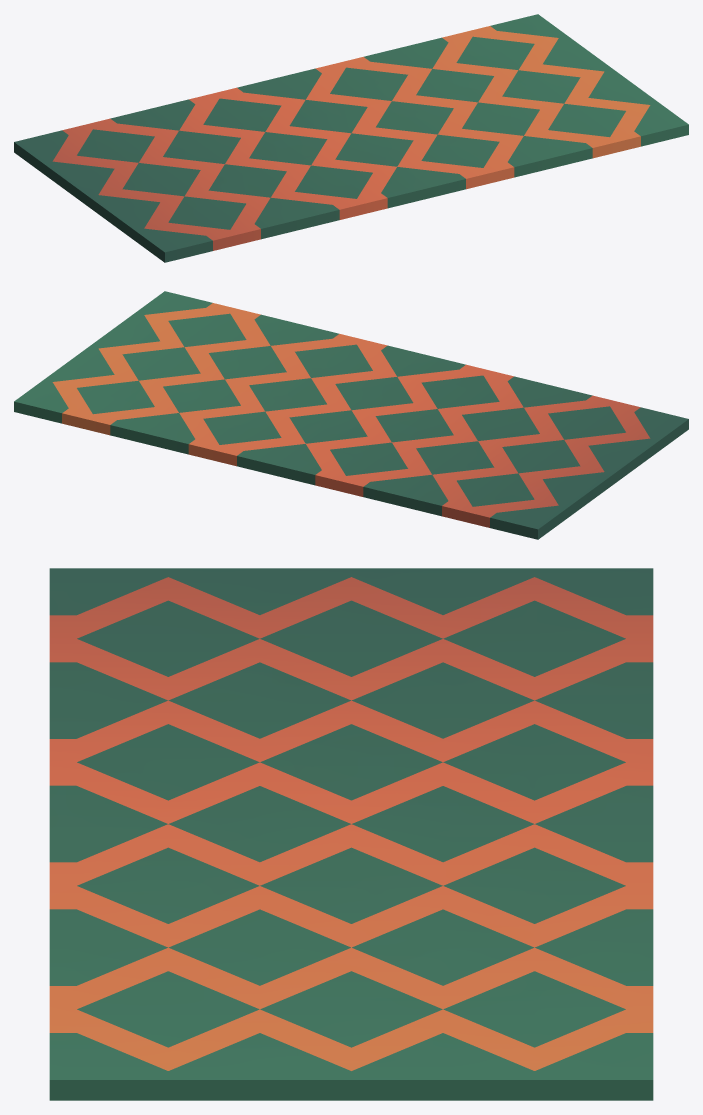
Rendered from carpet03.fbx.
3 views of the same model, one above another, from view 1: azimuth 30°, elevation 25°; view 2: azimuth 150°, elevation 25°; view 3: azimuth 270°, elevation 25° (orthographic). The views are drawn at different scales.
Parts seen in each view (by area): view 1: carpet03; view 2: carpet03; view 3: carpet03.
Part boxes in pixels (left/top/right/bottom): carpet03: left=14, top=14, right=688, bottom=262; carpet03: left=14, top=291, right=688, bottom=539; carpet03: left=49, top=568, right=653, bottom=1100.
Size of the model in its own units: 1.57 by 0.0298 by 0.7848.
